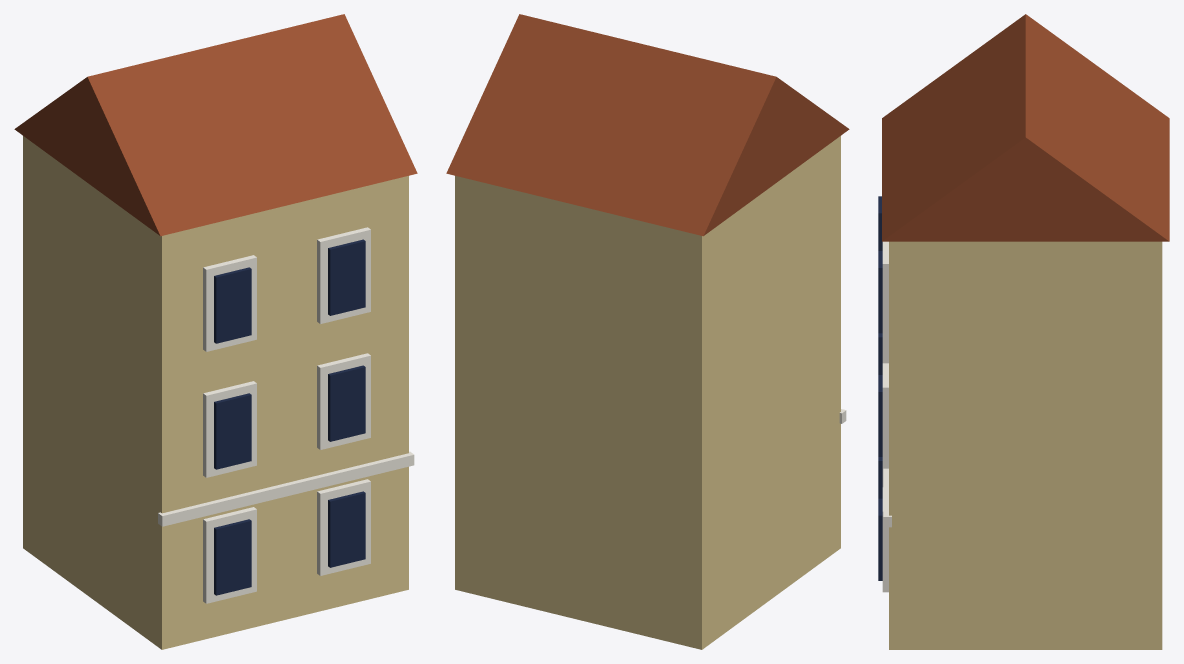
File: kamienica_wwa_2.glb
3 views of the same model, side by side, from view 1: azimuth 30°, elevation 25°; view 2: azimuth 150°, elevation 25°; view 3: azimuth 270°, elevation 25° (orthographic).
Parts seen in each view (by area): view 1: kamienica_wwa_2; view 2: kamienica_wwa_2; view 3: kamienica_wwa_2.
Part boxes in pixels (x1,y1,x2,y2): kamienica_wwa_2: [14, 14, 417, 649]; kamienica_wwa_2: [446, 14, 849, 649]; kamienica_wwa_2: [878, 14, 1169, 649].
Bounding box in the file's own units: 2.03 × 3.95 × 2.02.
